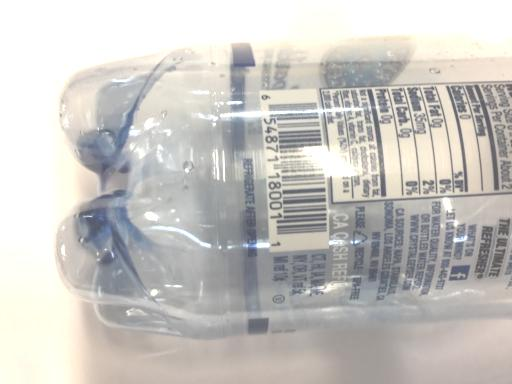bottle: (53, 27, 512, 346)
